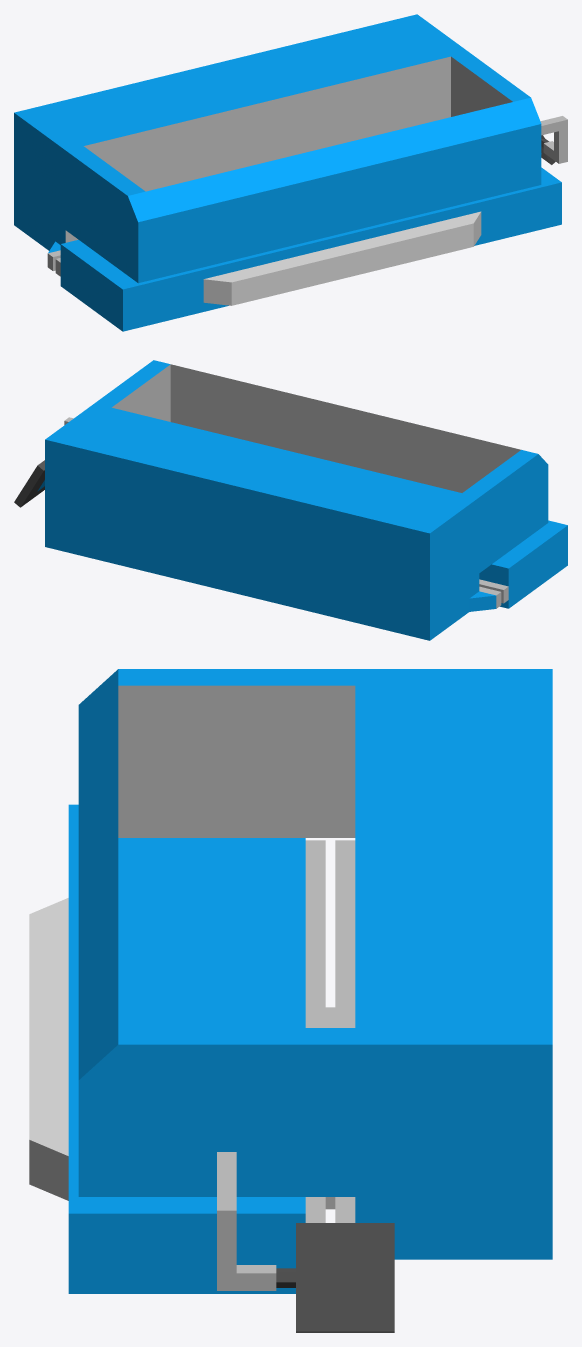
The model's file is cnc_bending_machine_3_state_2.dae.
3 views of the same model, one above another, from view 1: azimuth 30°, elevation 25°; view 2: azimuth 150°, elevation 25°; view 3: azimuth 270°, elevation 25° (orthographic). The views are drawn at different scales.
Visible parts, largest first — view 1: coords_ME_ID11_MA_material_6, coords_ME_ID27_MA_material_11, coords_ME_ID59_MA_material_8, coords_ME_ID33_MA_material_11; view 2: coords_ME_ID11_MA_material_6, coords_ME_ID27_MA_material_11, coords_ME_ID45_MA_material; view 3: coords_ME_ID11_MA_material_6, coords_ME_ID27_MA_material_11, coords_ME_ID59_MA_material_8, coords_ME_ID45_MA_material, coords_ME_ID33_MA_material_11.
Part boxes in pixels (x1,y1,x2,y2): coords_ME_ID11_MA_material_6: (14,14,561,331); coords_ME_ID27_MA_material_11: (47,56,512,276); coords_ME_ID59_MA_material_8: (203,211,481,305); coords_ME_ID33_MA_material_11: (540,116,567,163); coords_ME_ID11_MA_material_6: (45,360,567,640); coords_ME_ID27_MA_material_11: (112,364,520,608); coords_ME_ID45_MA_material: (14,460,44,507); coords_ME_ID11_MA_material_6: (68,669,552,1293); coords_ME_ID27_MA_material_11: (118,685,355,1222); coords_ME_ID59_MA_material_8: (29,898,68,1200); coords_ME_ID45_MA_material: (276,1223,394,1332); coords_ME_ID33_MA_material_11: (217,1152,276,1290).
Size of the model in its own units: 73.96 by 17.4 by 35.47.
